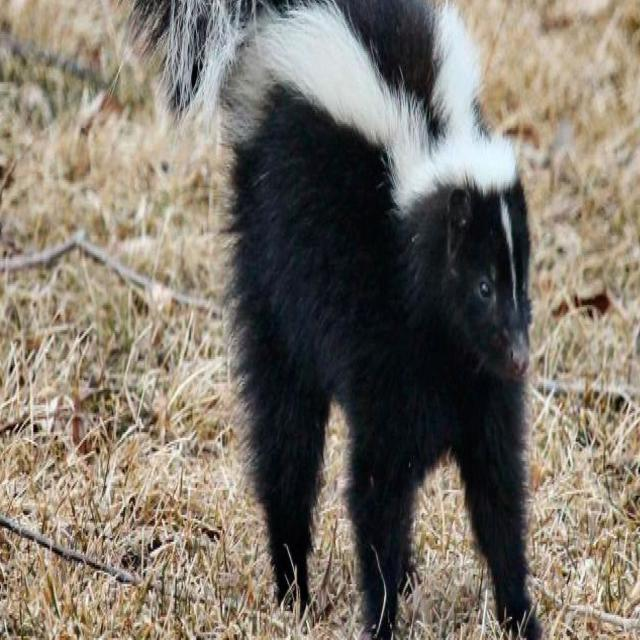Skunk: (129, 0, 552, 640)
